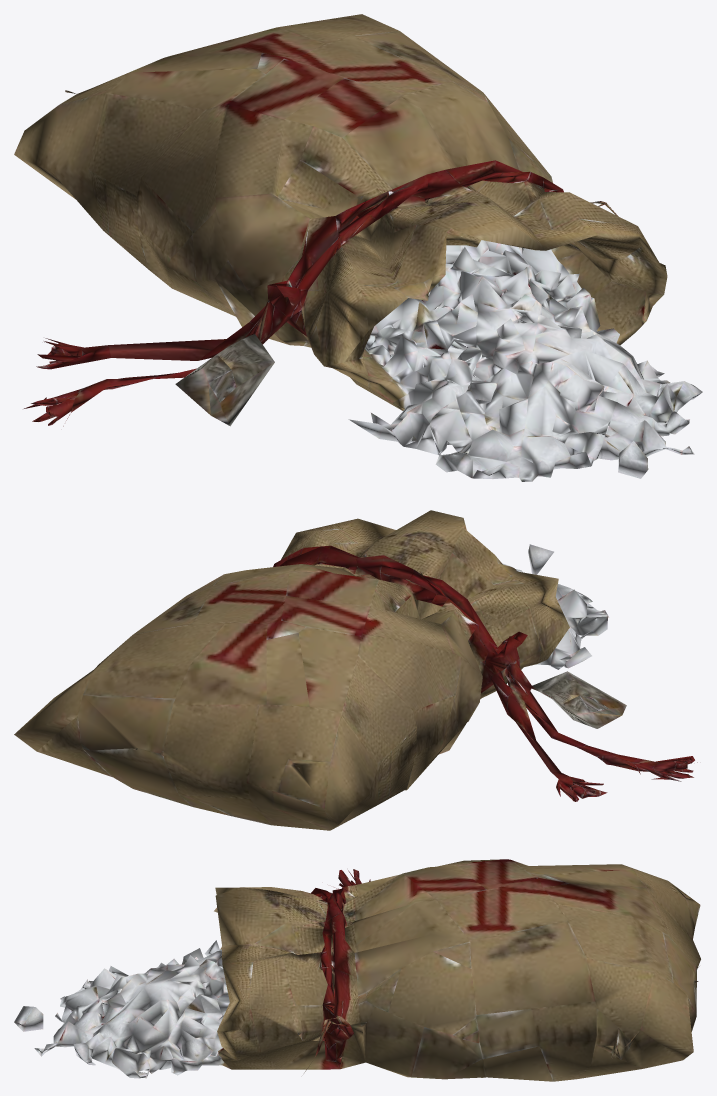
File: salt_bag.2c982a8d.glb
3 renders of one model, top to bottom at view 1: azimuth 30°, elevation 25°; view 2: azimuth 150°, elevation 25°; view 3: azimuth 270°, elevation 25°, orthographic. The views are drawn at different scales.
Parts seen in each view (by area): view 1: item; view 2: item; view 3: item.
Boxes of the visible parts, box(x1,y1,x2,y2) form: item: box(14, 14, 702, 481); item: box(14, 510, 697, 830); item: box(14, 859, 700, 1081).
Bounding box in the file's own units: 0.1503 × 0.045 × 0.1933.
1 material, 1 textured.
